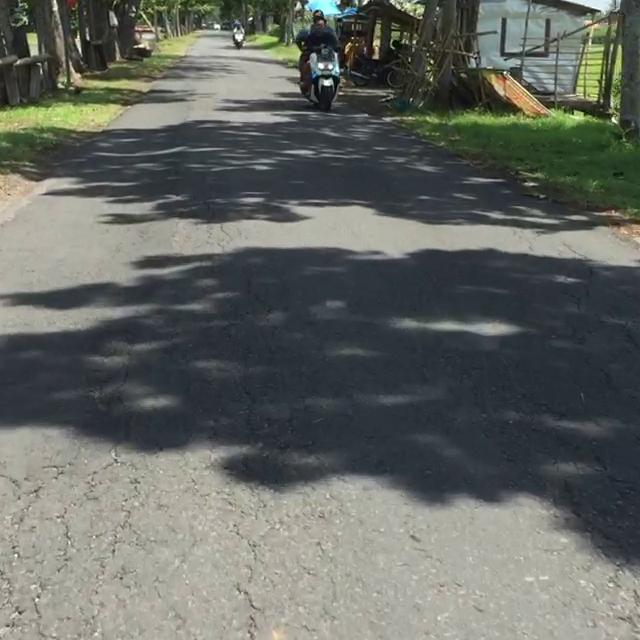retak_kulit_buaya: (0, 441, 127, 640)
